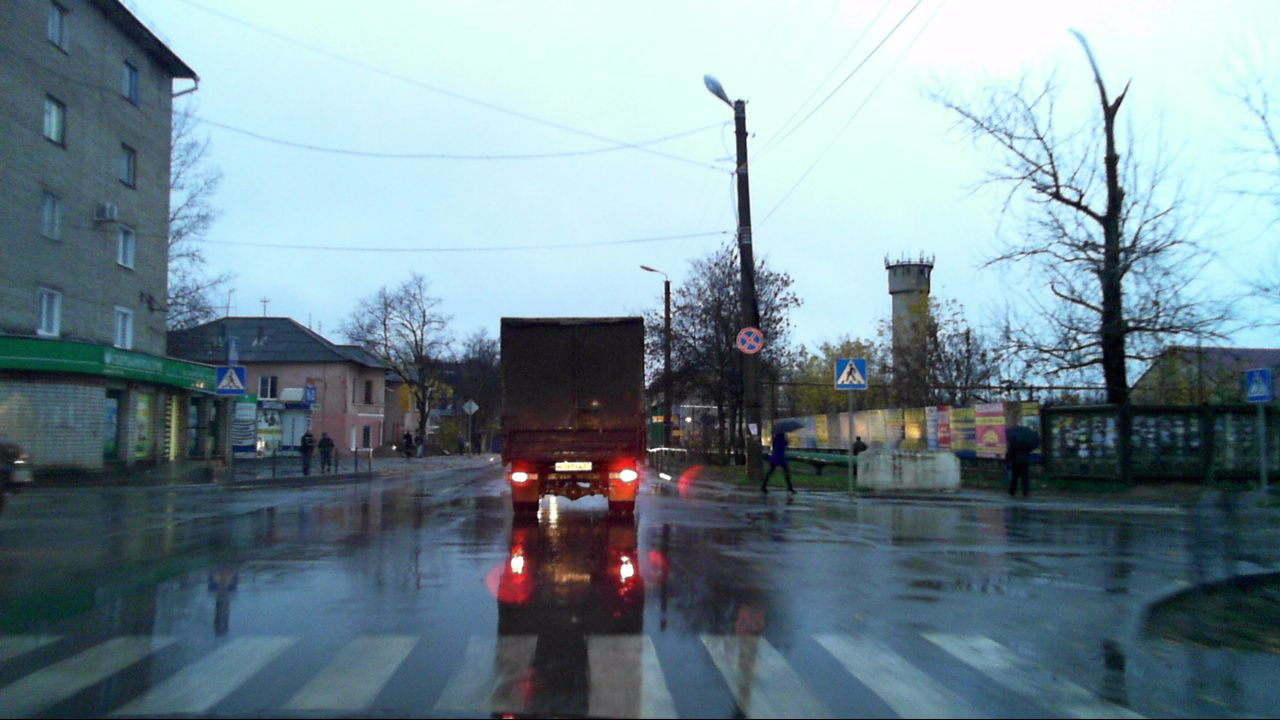No Parking: (736, 327, 764, 354)
